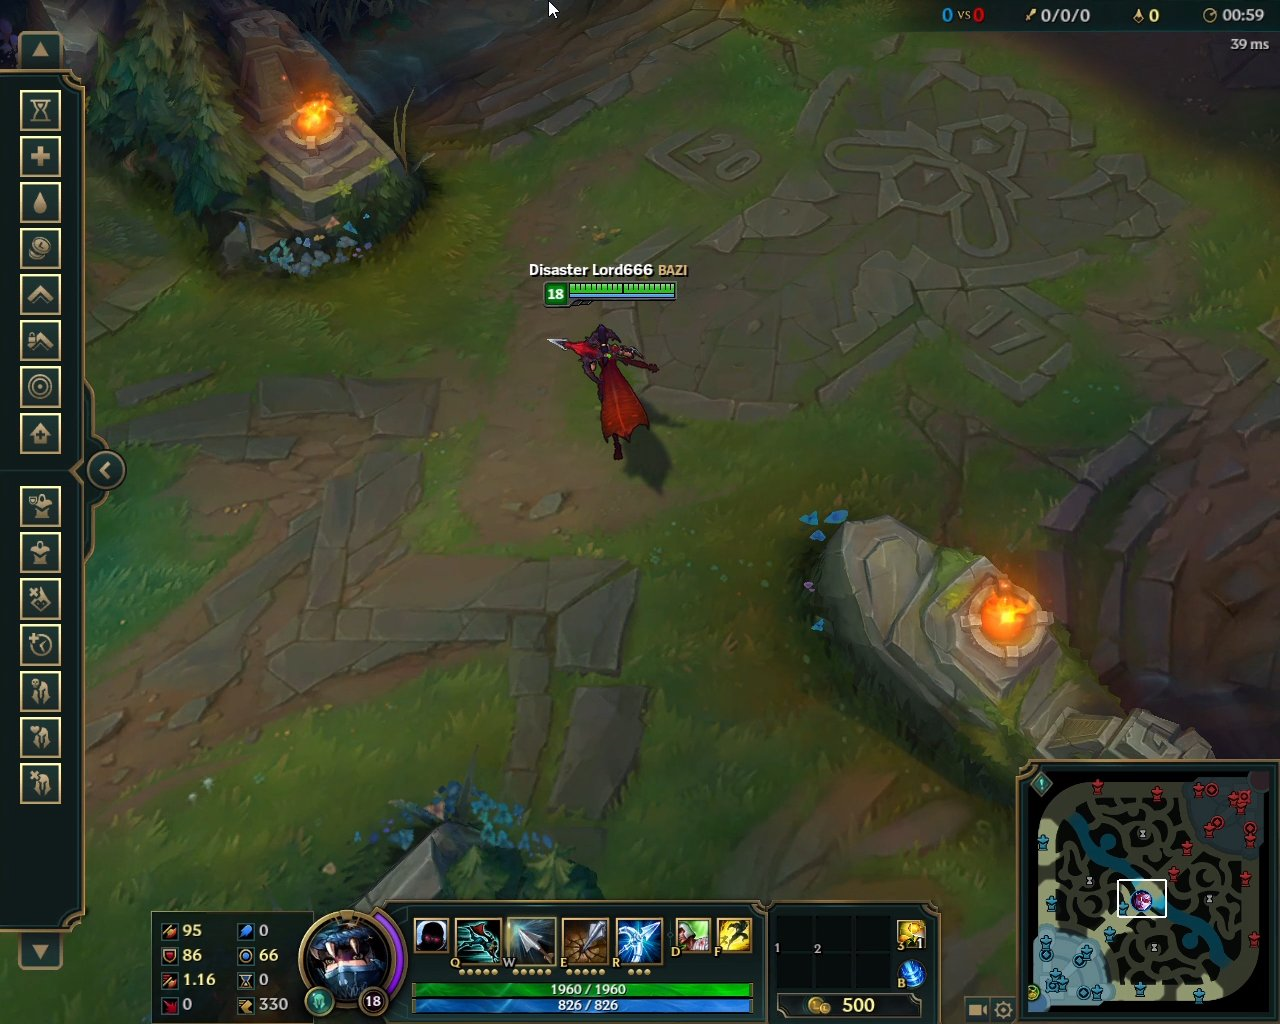Vayne: (541, 321, 669, 466)
